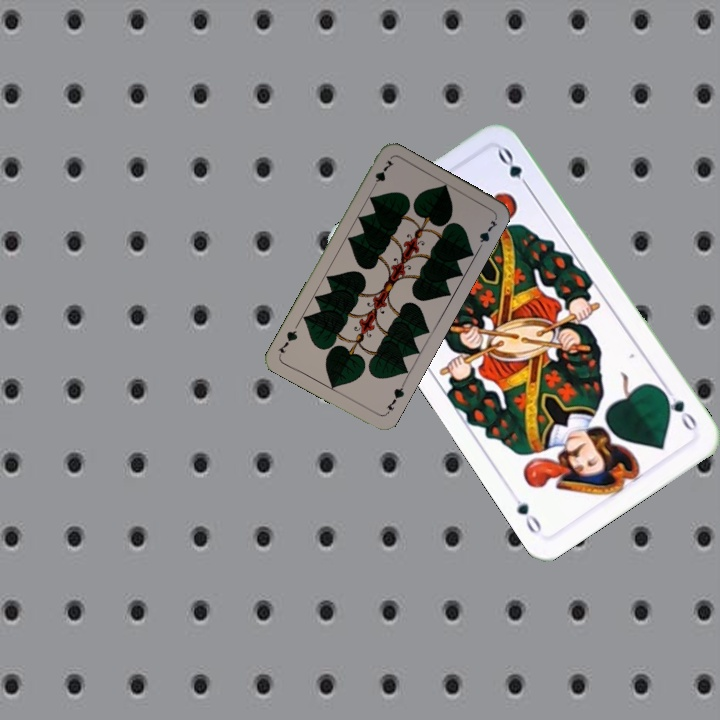G7: (368, 155, 397, 193), (382, 379, 407, 417)
GO: (658, 382, 700, 435)
